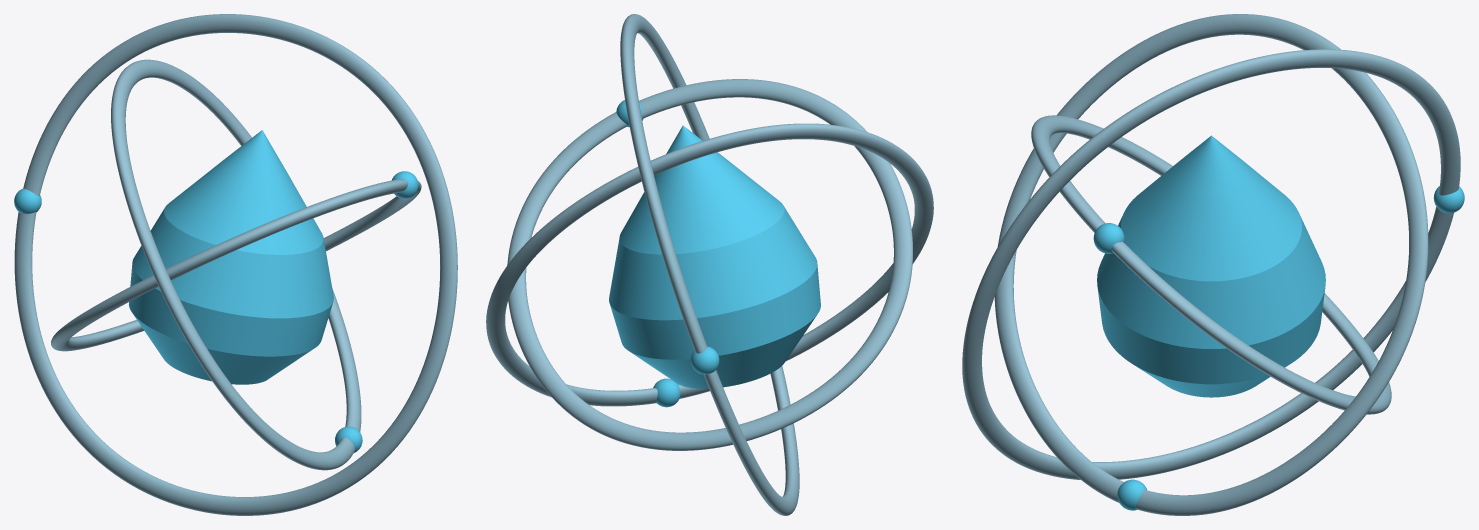
The picture shows the model from 3 angles, left to right: view 1: azimuth 30°, elevation 25°; view 2: azimuth 150°, elevation 25°; view 3: azimuth 270°, elevation 25°; orthographic projection. The views are drawn at different scales.
Size of the model in its own units: 0.9472 by 1.11 by 1.05.
